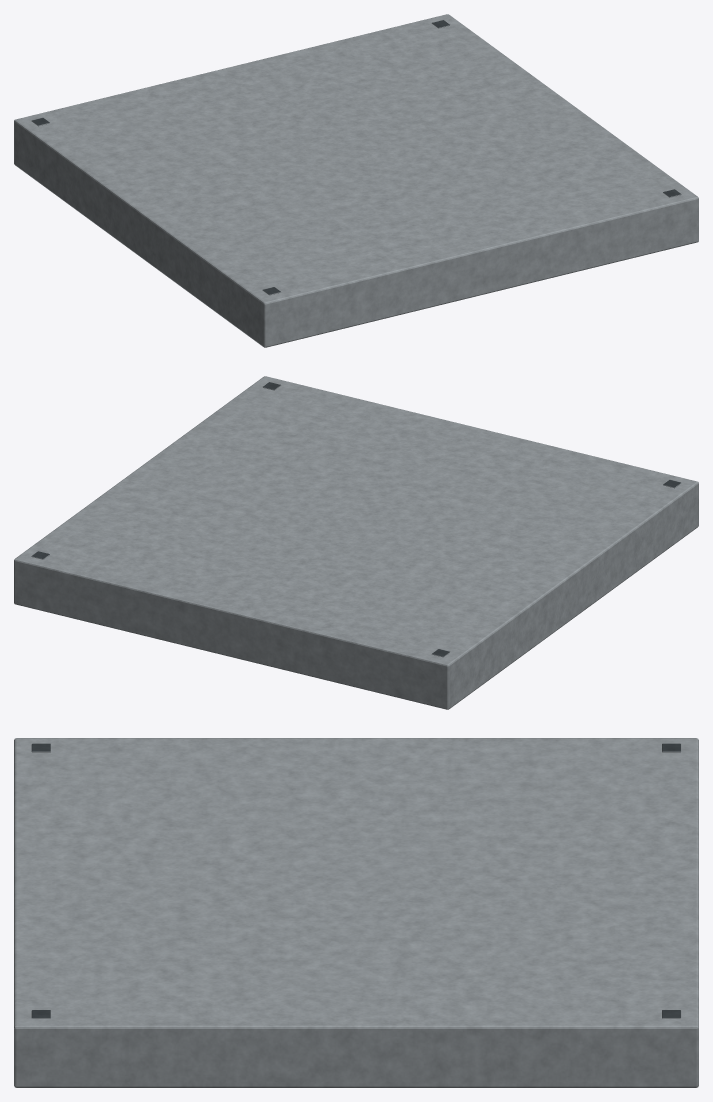
Rendered from SF_Floor_10.glb.
3 views of the same model, one above another, from view 1: azimuth 30°, elevation 25°; view 2: azimuth 150°, elevation 25°; view 3: azimuth 270°, elevation 25° (orthographic). The views are drawn at different scales.
Parts seen in each view (by area): view 1: SF_Floor_10; view 2: SF_Floor_10; view 3: SF_Floor_10.
Part boxes in pixels (x1,y1,x2,y2): SF_Floor_10: (14,14,698,347); SF_Floor_10: (14,376,698,709); SF_Floor_10: (14,738,698,1087).
Size of the model in its own units: 10 by 1.02 by 10.
1 material, 1 textured.
